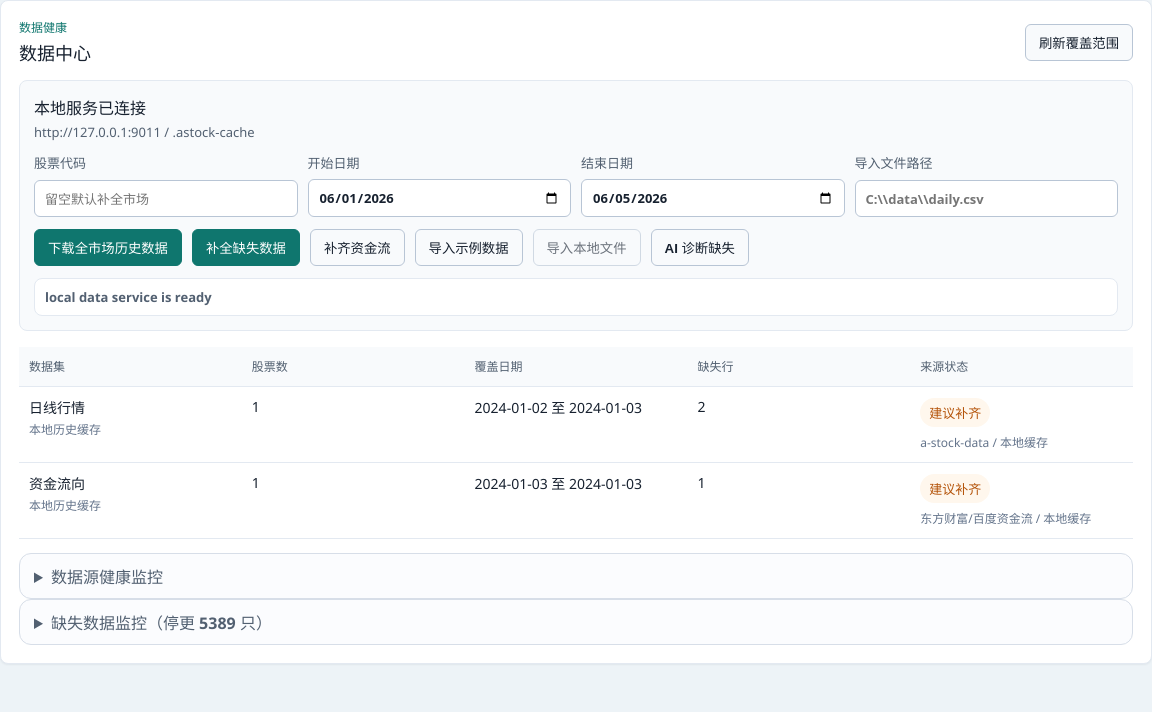
Test case: DataCenter › fetches missing daily bars through the service and refreshes parent coverage
The image size is (1152, 712).
Expected: the text "http://127.0.0.1:9011 / .astock-cache" is shown, [34,123,254,141]
Type "600519 000001" into the field labelled "股票代码". click: (166, 198)
box: [34,180,298,217]
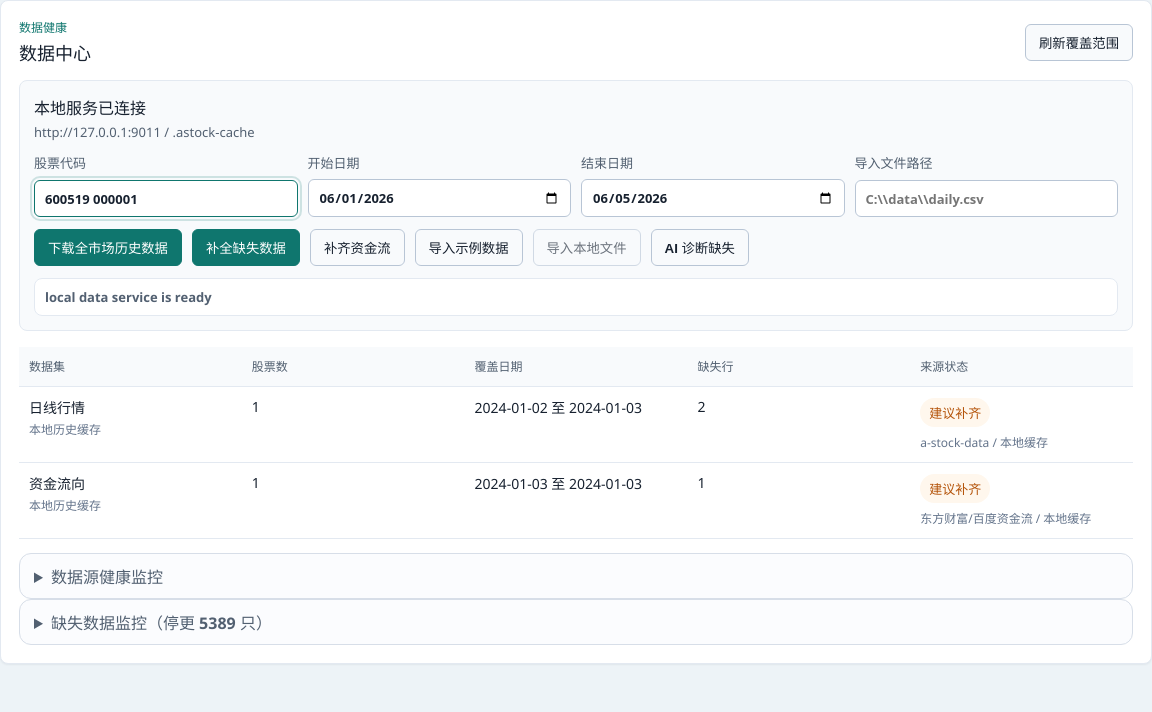
Click the button "补全缺失数据". click: (246, 248)
box: [192,229,300,266]
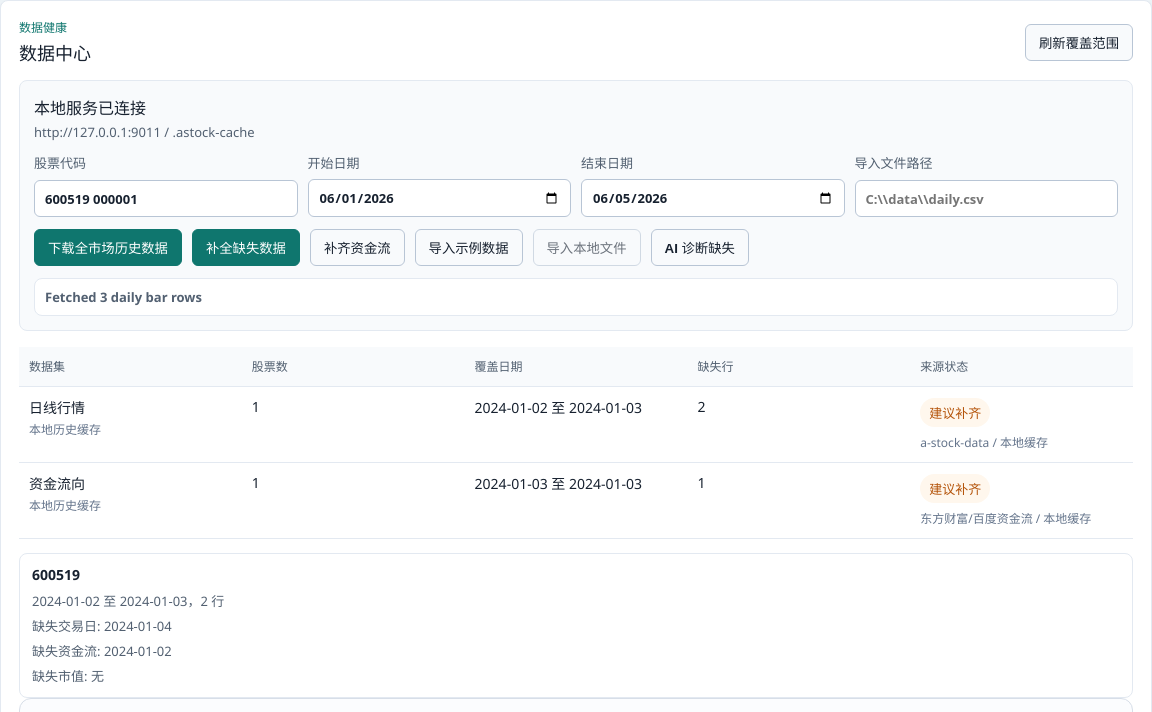
Expected: the text "建议补齐" in the row of "日线行情" is shown, [929,404,981,422]
Result: the text "Fetched 3 daily bar rows" is shown at [34,278,1118,316]
